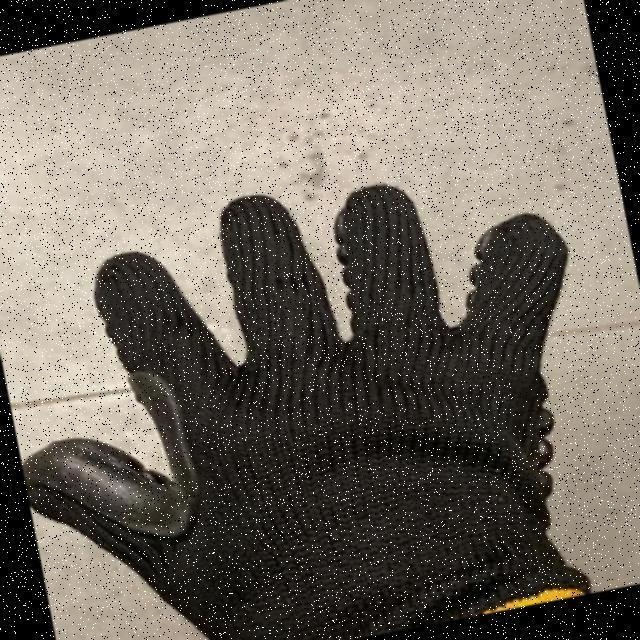Guantes: (48, 228, 458, 640)
